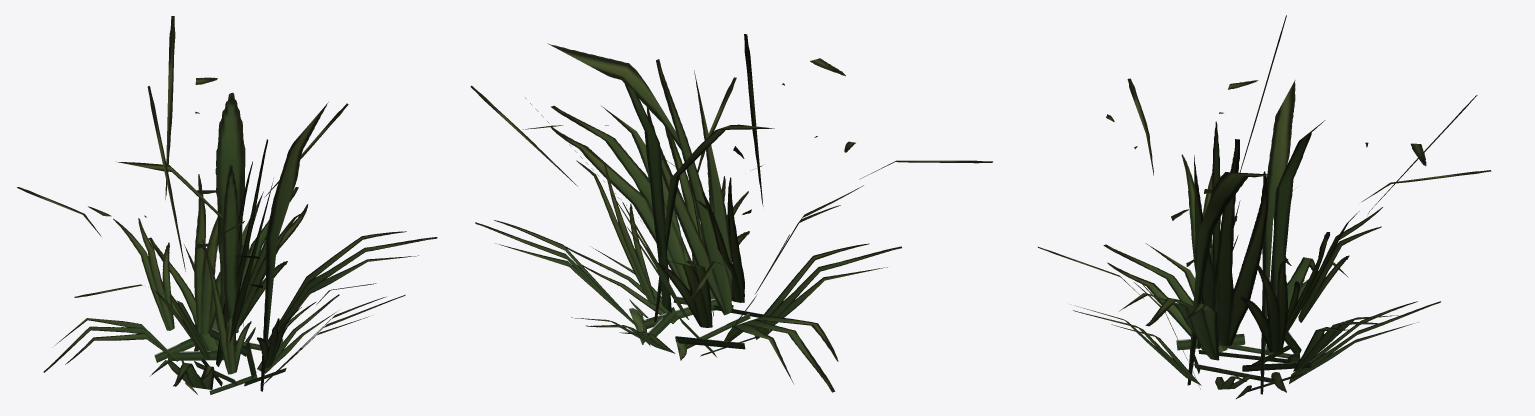
The model's file is Cao2.FBX.
3 views of the same model, side by side, from view 1: azimuth 30°, elevation 25°; view 2: azimuth 150°, elevation 25°; view 3: azimuth 270°, elevation 25° (orthographic). The views are drawn at different scales.
Parts seen in each view (by area): view 1: cao1; view 2: cao1; view 3: cao1.
Boxes of the visible parts, x1,y1,x2,y2 form: cao1: (17,16,437,394); cao1: (470,34,992,392); cao1: (1038,15,1491,398).
Size of the model in its own units: 2.24 by 1.56 by 2.1.
